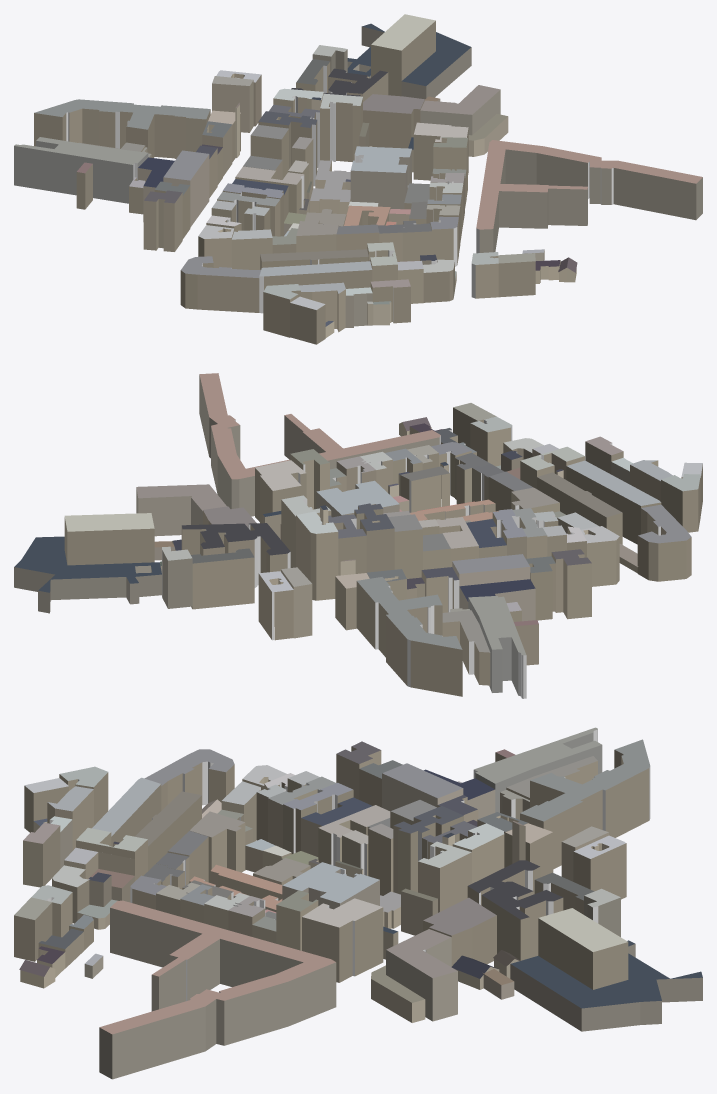
The picture shows the model from 3 angles, top to bottom: view 1: azimuth 30°, elevation 25°; view 2: azimuth 150°, elevation 25°; view 3: azimuth 270°, elevation 25°; orthographic projection. The views are drawn at different scales.
Parts seen in each view (by area): view 1: tuile; view 2: tuile; view 3: tuile.
Boxes of the visible parts, x1,y1,x2,y2 form: tuile: (14,14,702,344); tuile: (14,373,702,698); tuile: (14,727,702,1079).
Bounding box in the file's own units: 304 × 47.43 × 299.
